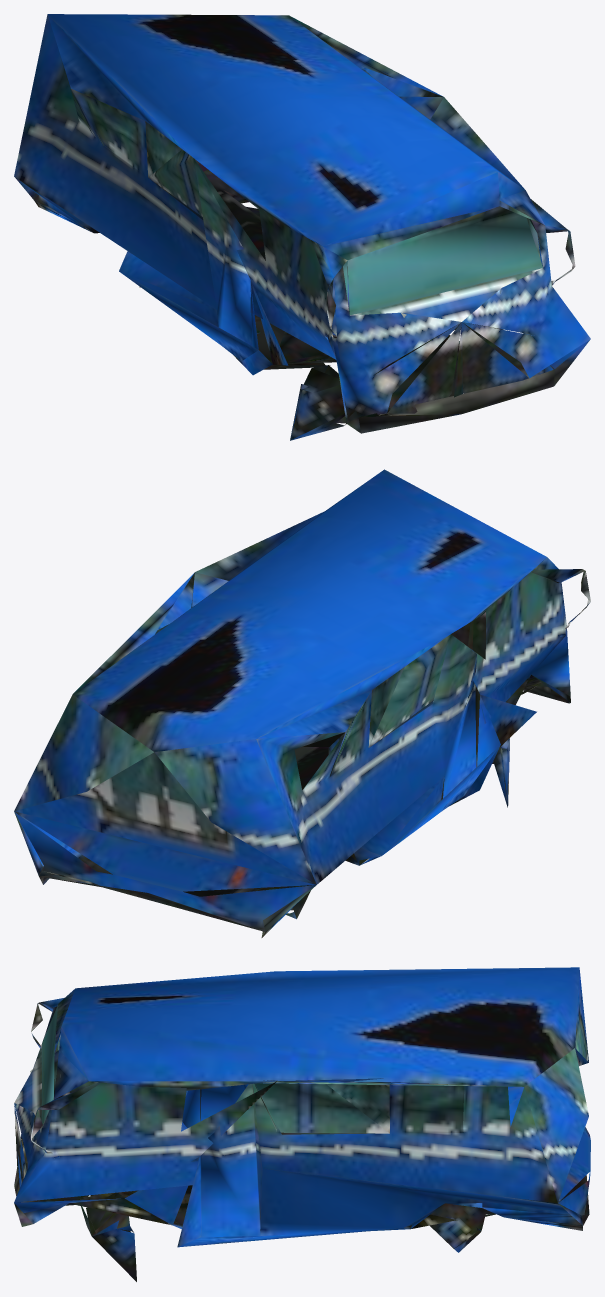
The model's file is danfo-blue-white-far.glb.
3 views of the same model, one above another, from view 1: azimuth 30°, elevation 25°; view 2: azimuth 150°, elevation 25°; view 3: azimuth 270°, elevation 25° (orthographic). The views are drawn at different scales.
Parts seen in each view (by area): view 1: danfo-far; view 2: danfo-far; view 3: danfo-far.
Boxes of the visible parts, x1,y1,x2,y2 form: danfo-far: [14, 14, 590, 440]; danfo-far: [14, 469, 590, 937]; danfo-far: [14, 967, 590, 1281].
Bounding box in the file's own units: 2.59 × 2.25 × 4.87.
1 material, 1 textured.
